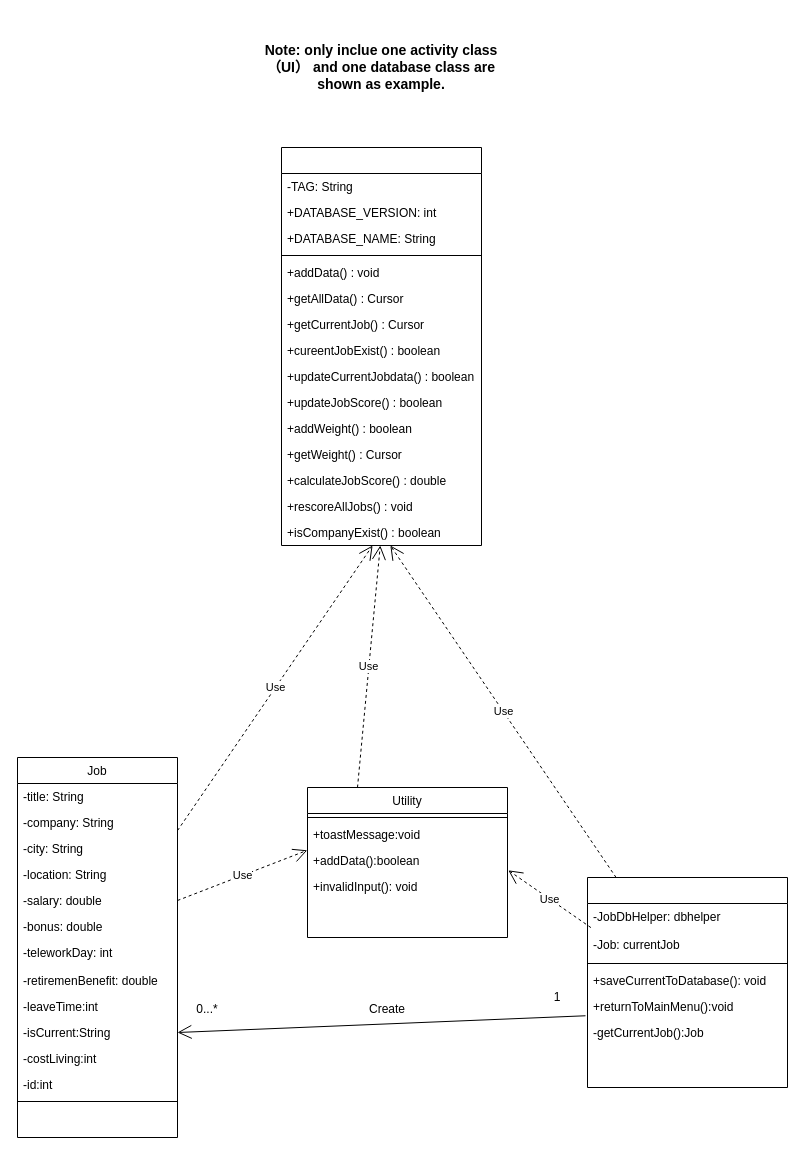
This 805x1155 diagram has some shape labels left out. Here are the shapes that lost their labels. From the top down, the box of each, then its label:
(280, 146, 482, 546): JobDbHelper
(586, 876, 788, 1088): JobActivity
